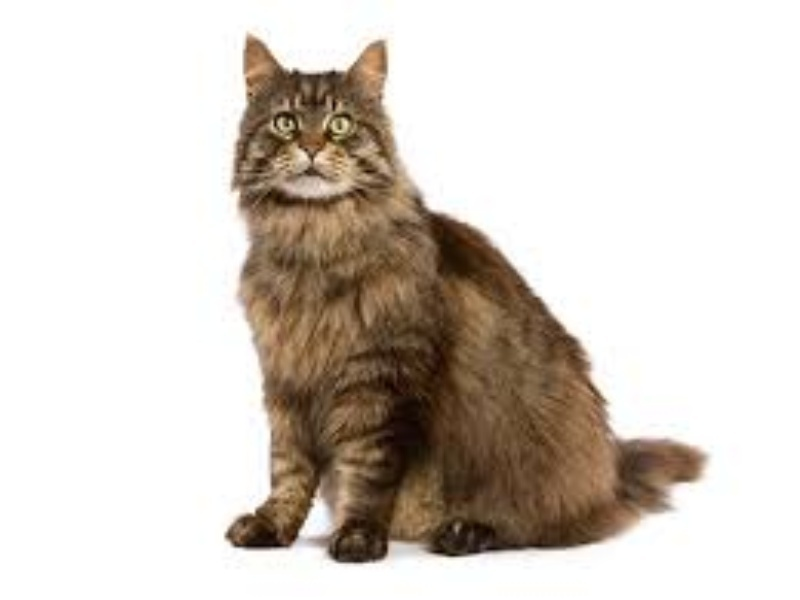cat: (211, 24, 712, 573)
